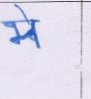e_matra: (15, 5, 30, 19)
